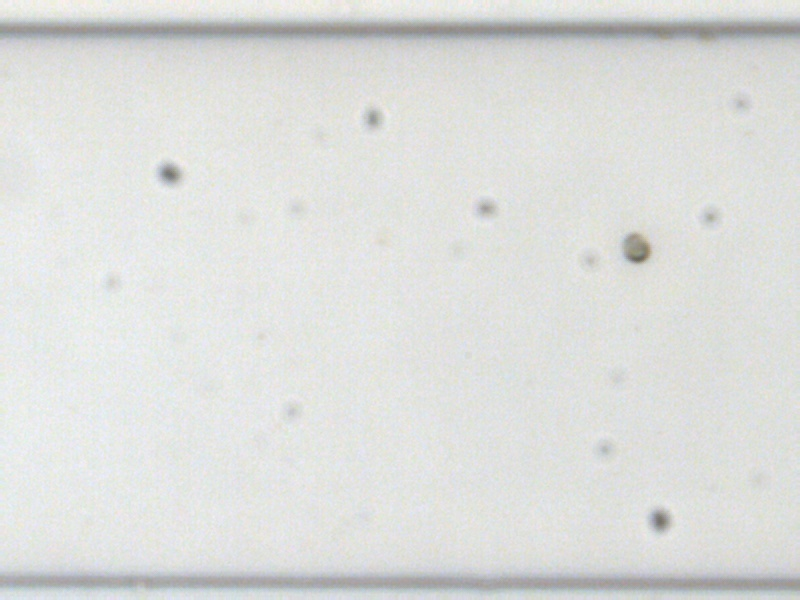Dunaliella salina: (620, 230, 649, 263)
